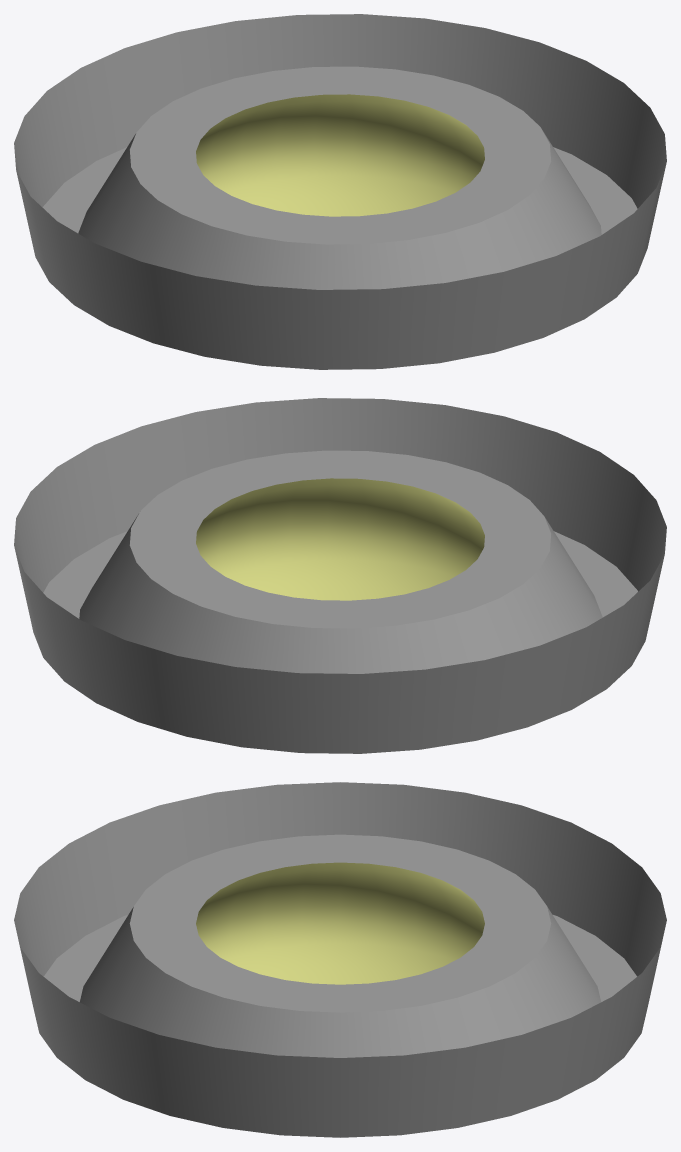
The model's file is ceiling_light_small.fbx.
The picture shows the model from 3 angles, top to bottom: view 1: azimuth 30°, elevation 25°; view 2: azimuth 150°, elevation 25°; view 3: azimuth 270°, elevation 25°; orthographic projection.
Visible parts, largest first — view 1: Cylinder.004; view 2: Cylinder.004; view 3: Cylinder.004.
Part boxes in pixels (box(x1,y1,x2,y2)): Cylinder.004: box(14, 14, 666, 369); Cylinder.004: box(14, 398, 666, 753); Cylinder.004: box(14, 782, 666, 1137).
Size of the model in its own units: 209 by 50.44 by 209.
